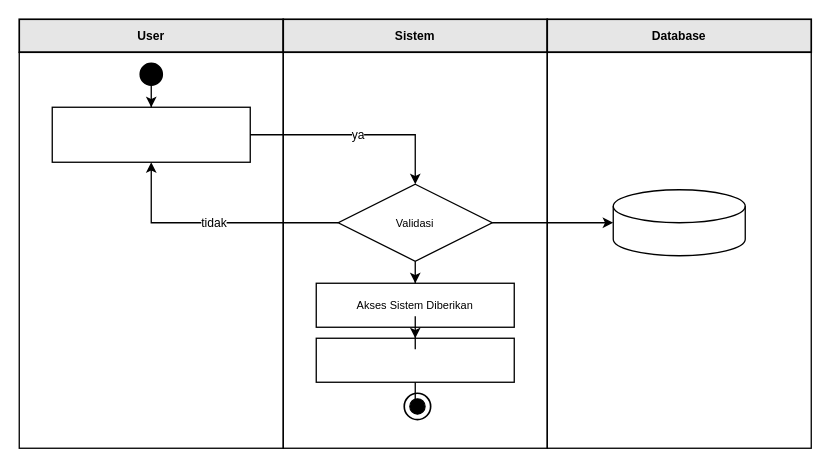
Image size: 832x469. Some labels were removed from this diagram. Each missing label, with the centre of its shape:
Masukkan Email dan Password: the point at 150,134
Permintaan Logout: the point at 414,359
tb_user: the point at 678,222
